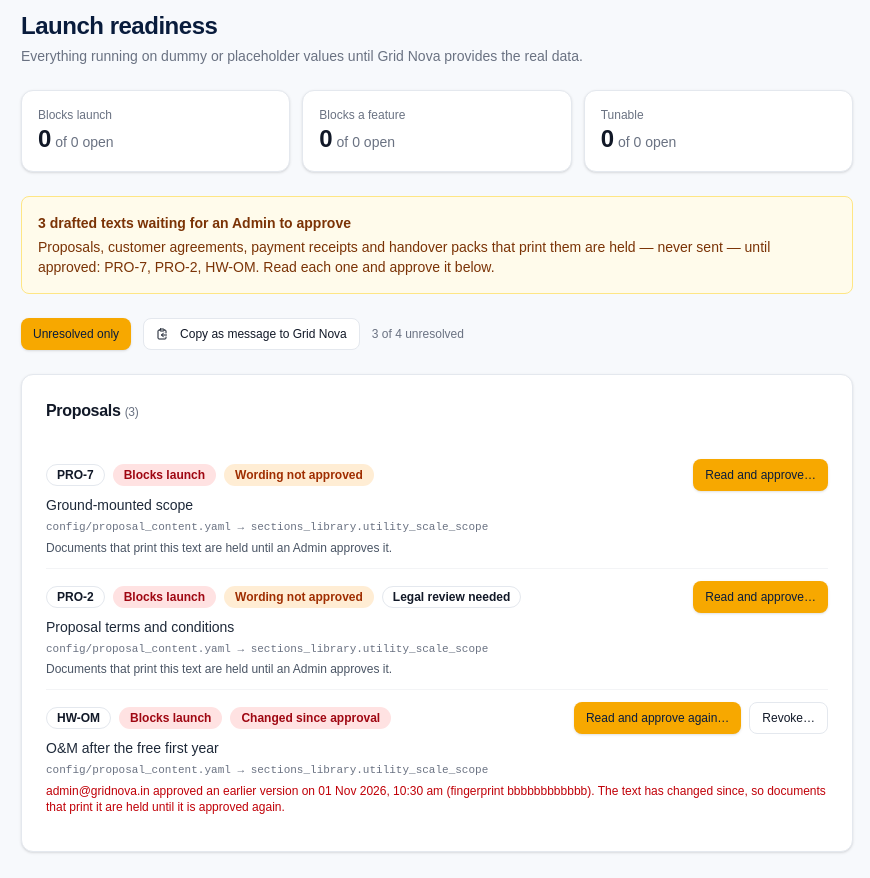
Test: Launch readiness — drafted wording (BE-22) › shows each text’s state: not approved, changed since approval, approved
The width and height of the screenshot is (870, 878).
Click the button "Unresolved only": (76, 334) [21, 318, 131, 350]
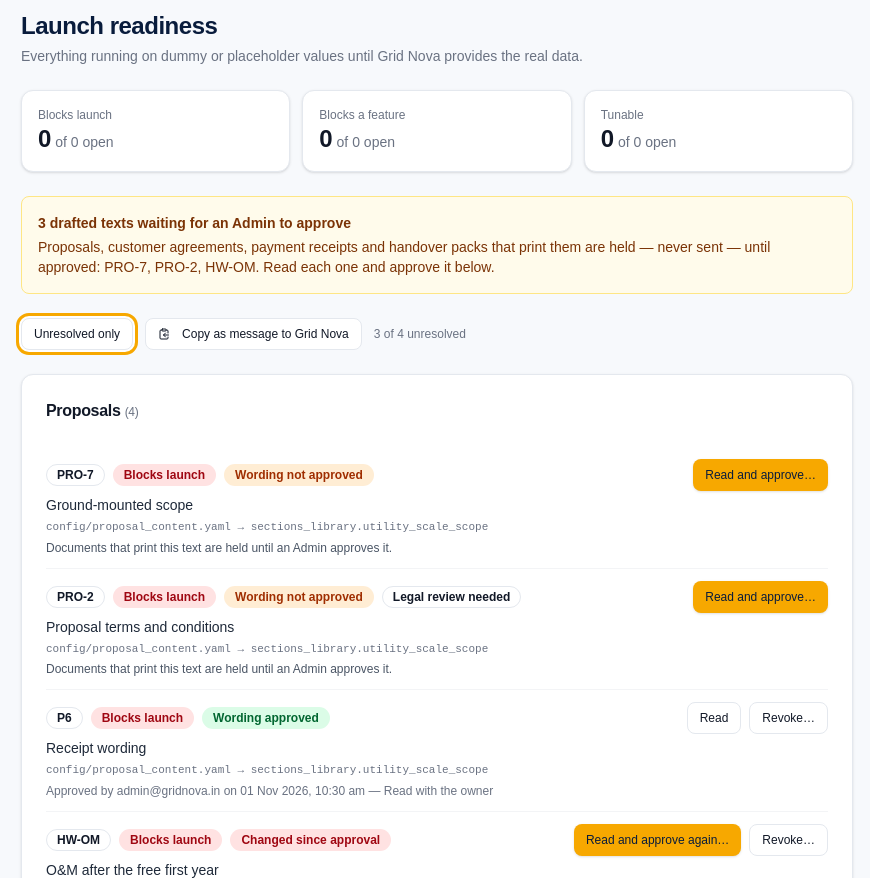
Expected: the text with test id "approval-state" reads "Wording not approved", [235, 468, 363, 482]
Result: the text with test id "approval-state" reads "Wording approved" at [213, 711, 319, 725]
Result: the list item with test id "checklist-item" shows "Approved by admin@gridnova.in" at [46, 690, 828, 812]
